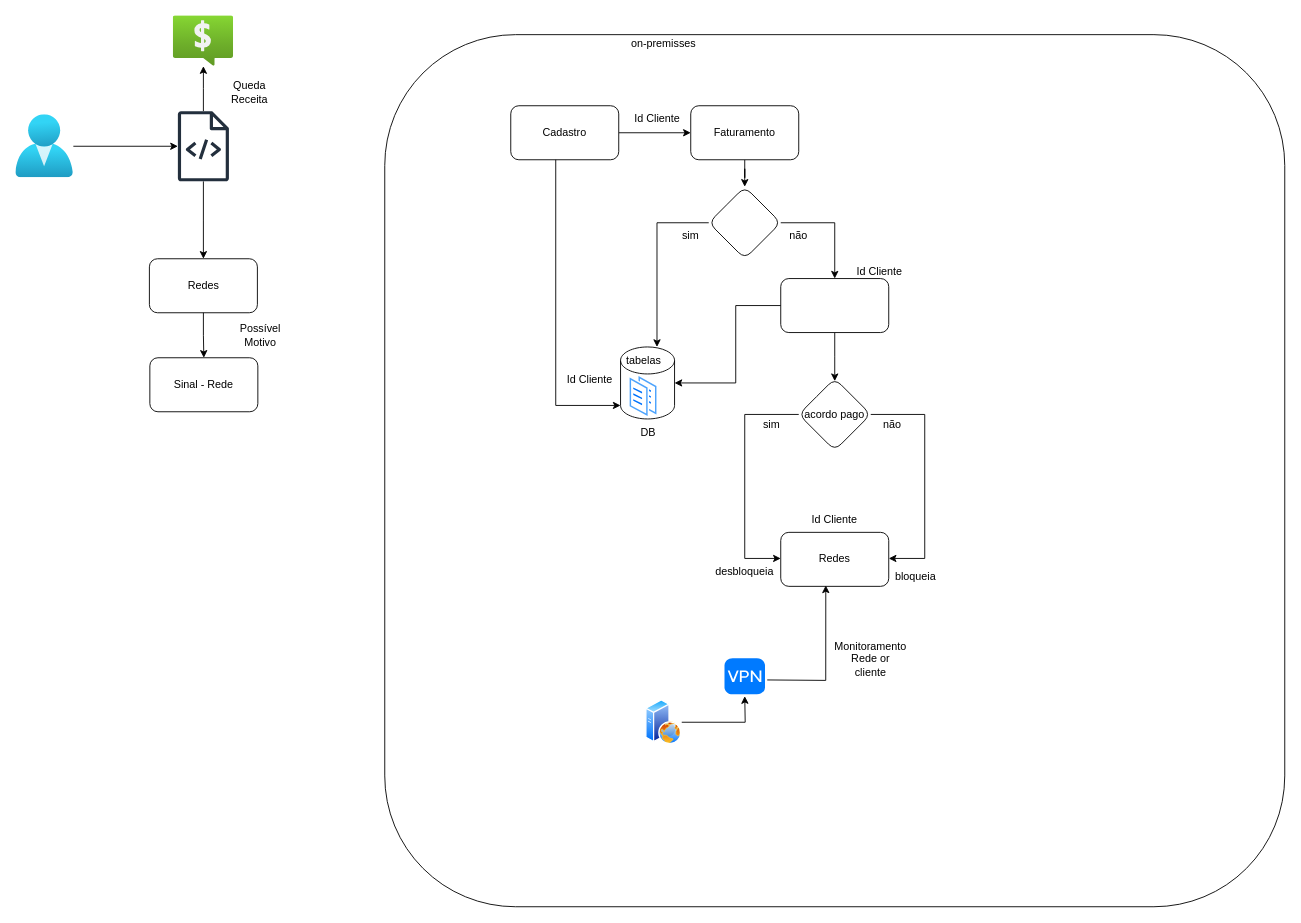
This 1301x923 diagram has some shape labels left out. The box of each missing label's shape, as (x1, y1, x2, y2) in pixels:
Cobrança: (780, 278, 889, 333)
fatura ok: (708, 186, 781, 259)
Web Service: (645, 699, 681, 744)
